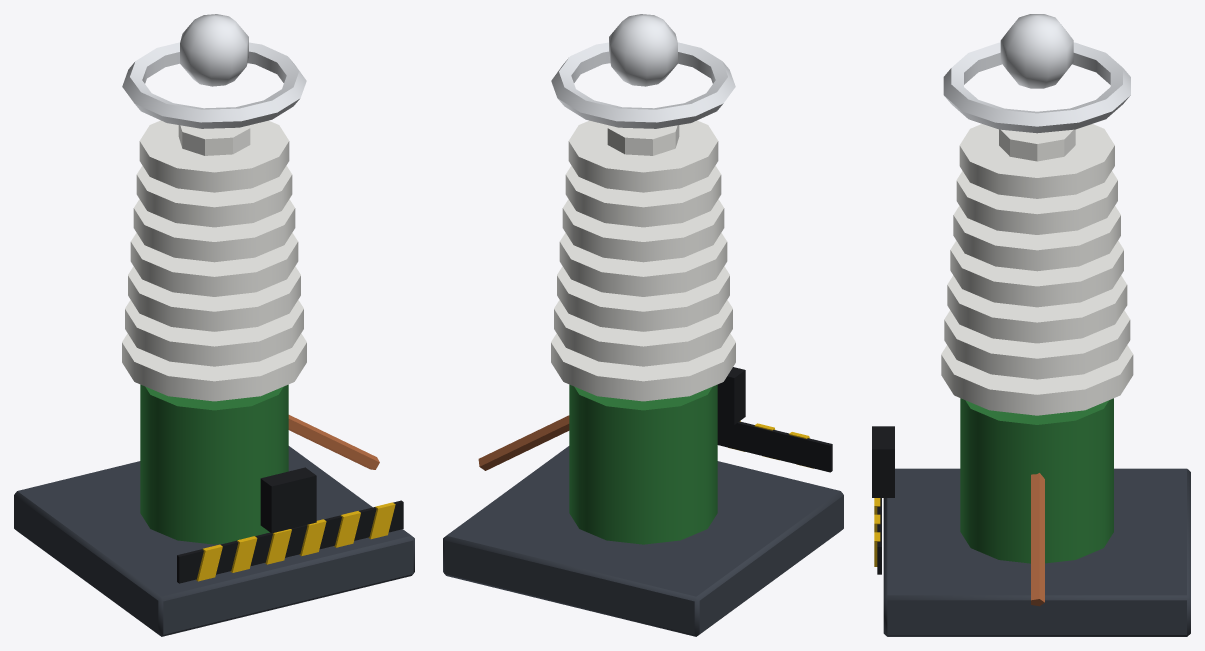
Rendered from capacitor_high_voltage_capacitor.glb.
The picture shows the model from 3 angles, left to right: view 1: azimuth 30°, elevation 25°; view 2: azimuth 150°, elevation 25°; view 3: azimuth 270°, elevation 25°; orthographic projection. The views are drawn at different scales.
Parts seen in each view (by area): view 1: capacitor_high_voltage_capacitor; view 2: capacitor_high_voltage_capacitor; view 3: capacitor_high_voltage_capacitor.
Part boxes in pixels (box(x1,y1,x2,y2)): capacitor_high_voltage_capacitor: box(14, 14, 414, 636); capacitor_high_voltage_capacitor: box(443, 14, 843, 636); capacitor_high_voltage_capacitor: box(872, 14, 1190, 636).
Size of the model in its own units: 0.9109 by 1.6 by 0.83.
